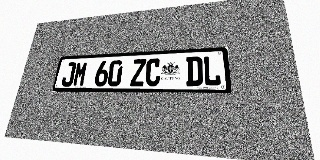0: (107, 60, 123, 86)
6: (94, 60, 110, 86)
C: (145, 58, 161, 86)
D: (186, 56, 203, 86)
J: (60, 62, 77, 86)
L: (203, 55, 221, 86)
M: (72, 61, 88, 86)
Z: (130, 59, 146, 86)
